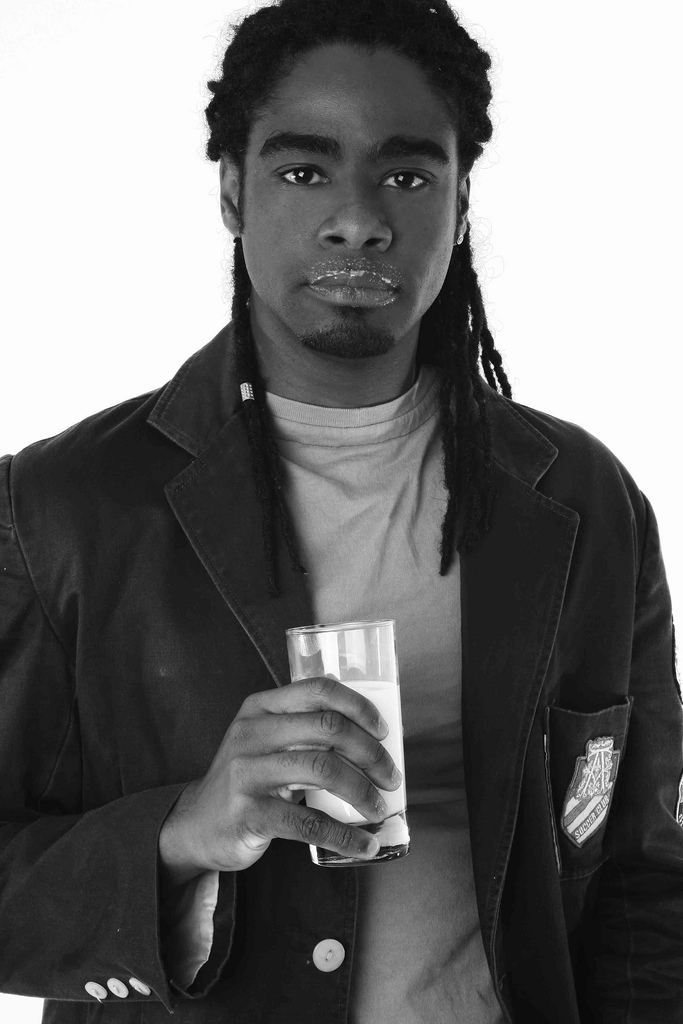glass of water: (296, 625, 432, 894)
